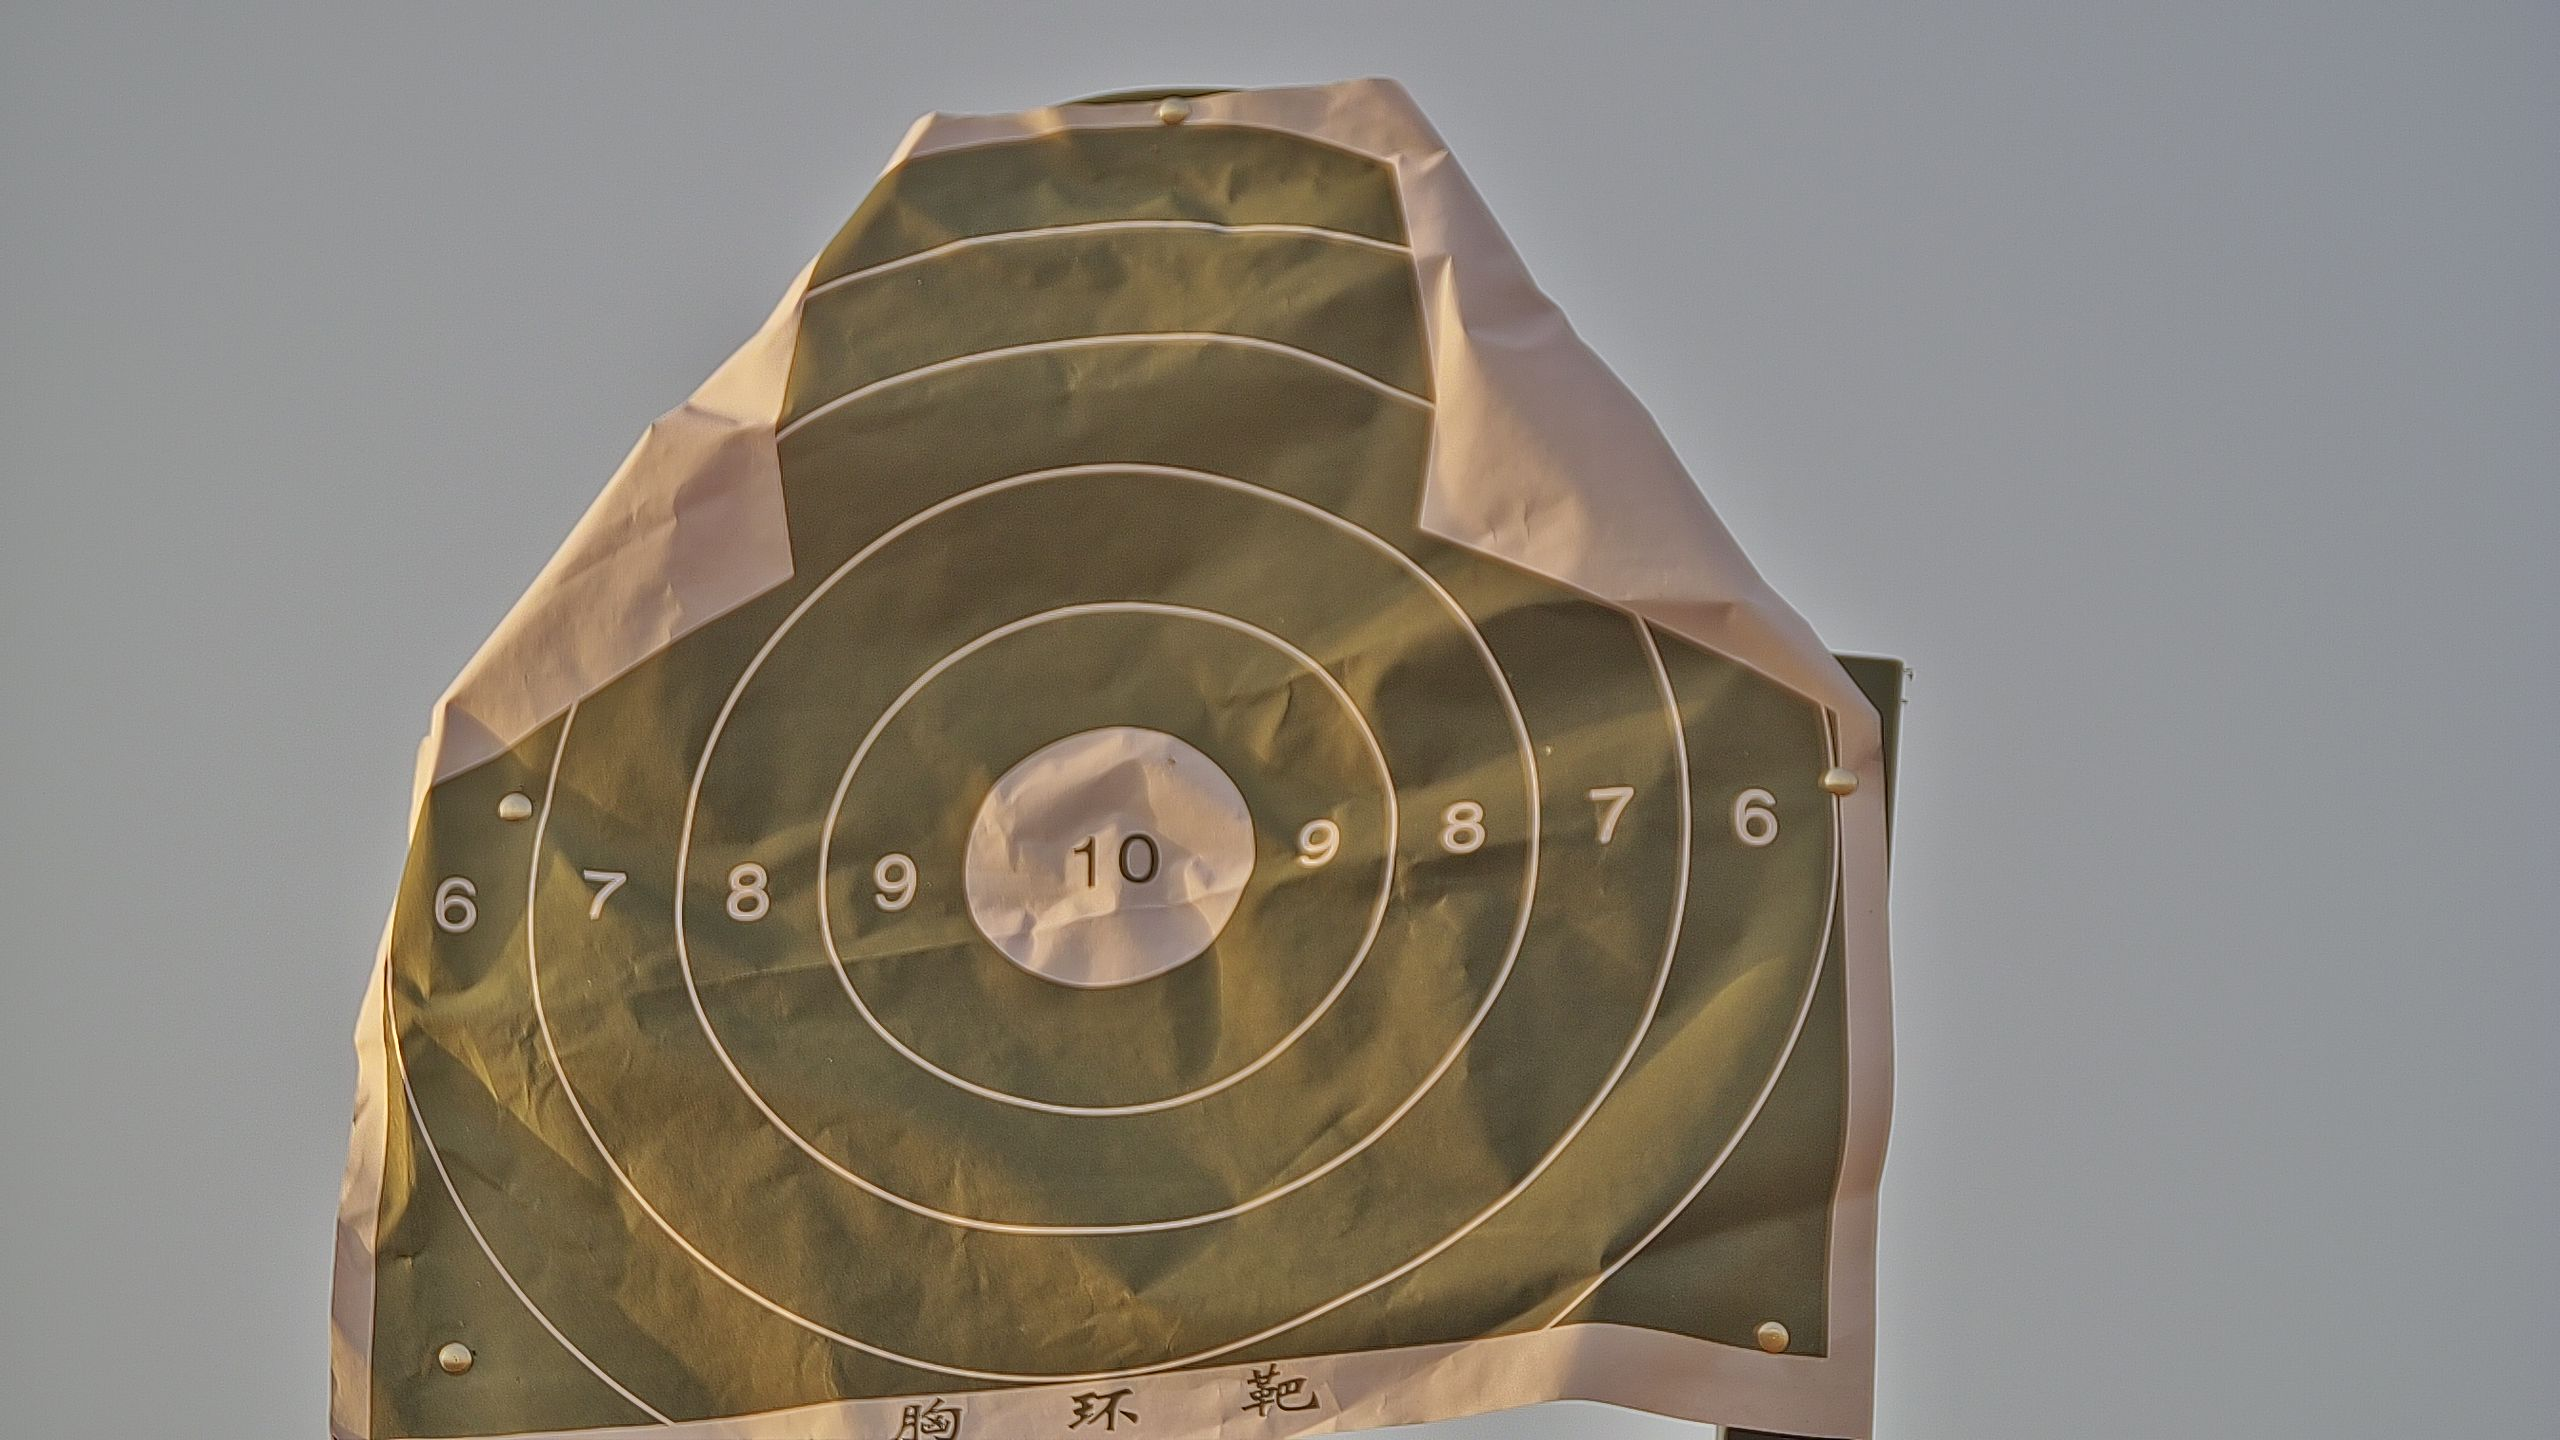target: (371, 128, 1857, 1440)
ten: (958, 719, 1264, 993)
